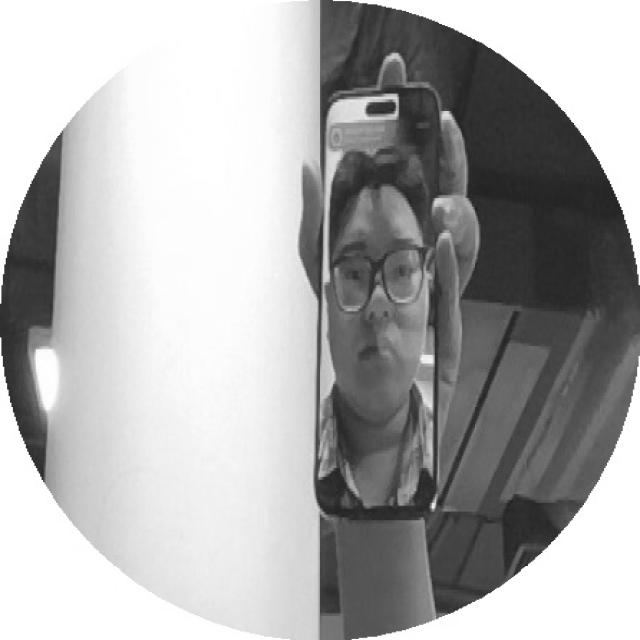fake: (293, 74, 471, 529), (304, 79, 459, 525)
